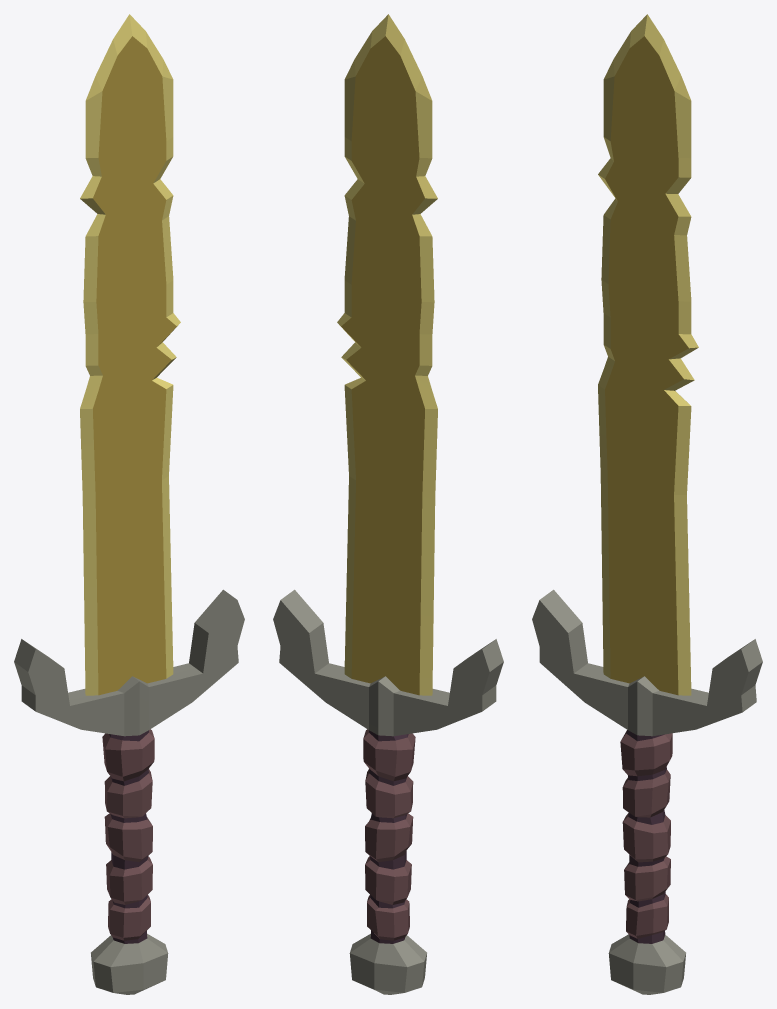
File: sword_golden.glb
The picture shows the model from 3 angles, left to right: view 1: azimuth 30°, elevation 25°; view 2: azimuth 150°, elevation 25°; view 3: azimuth 330°, elevation 25°; orthographic projection.
Visible parts, largest first — view 1: Sword_Golden; view 2: Sword_Golden; view 3: Sword_Golden.
Boxes of the visible parts, x1,y1,x2,y2 form: Sword_Golden: (14, 14, 244, 994); Sword_Golden: (273, 14, 503, 994); Sword_Golden: (532, 14, 762, 994).
Size of the model in its own units: 0.5344 by 2.3 by 0.1222.
